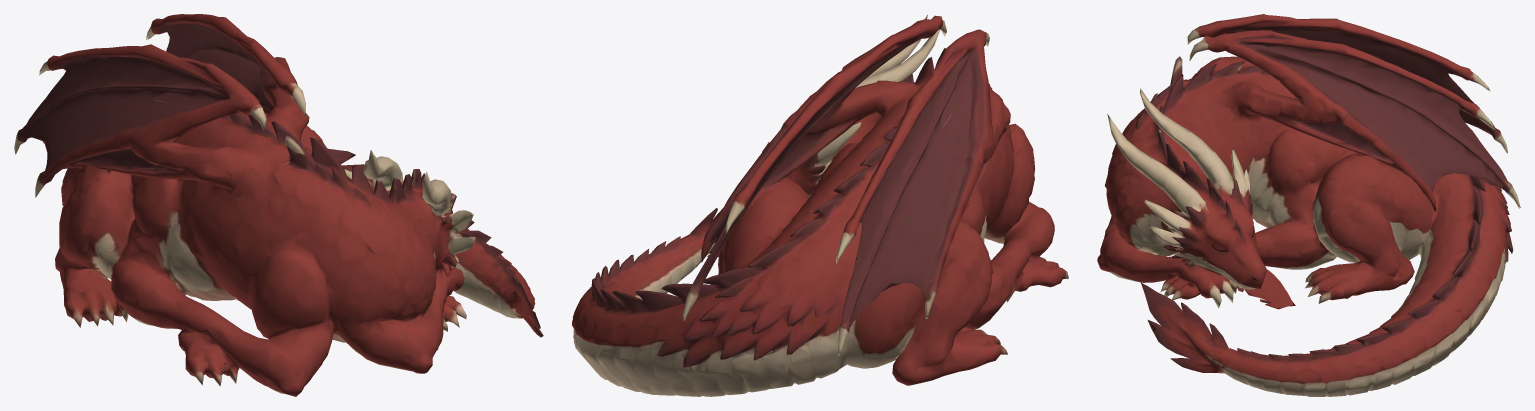
Rendered from dragon_sleep.draco.glb.
3 views of the same model, side by side, from view 1: azimuth 30°, elevation 25°; view 2: azimuth 150°, elevation 25°; view 3: azimuth 270°, elevation 25° (orthographic). The views are drawn at different scales.
Parts seen in each view (by area): view 1: dragon_sleep; view 2: dragon_sleep; view 3: dragon_sleep.
Part boxes in pixels (box(x1,y1,x2,y2)): dragon_sleep: box(14, 14, 543, 396); dragon_sleep: box(572, 15, 1068, 396); dragon_sleep: box(1097, 14, 1520, 396).
Size of the model in its own units: 0.9185 by 0.6961 by 1.
1 material, 1 textured.
